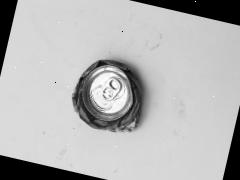metal: (38, 32, 183, 178)
